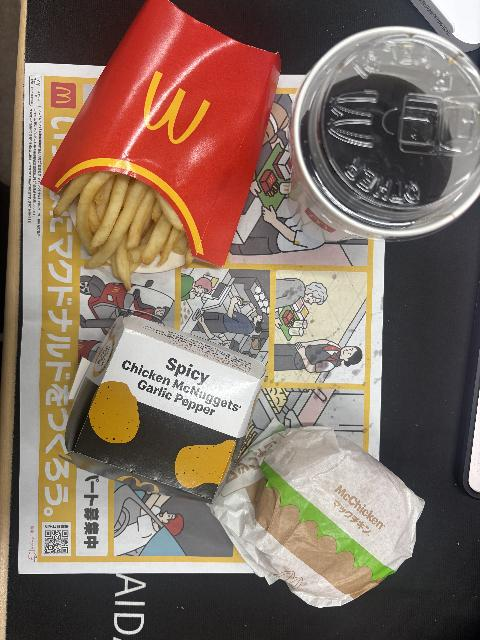burger: (210, 426, 427, 611)
drink: (289, 25, 480, 244)
fries: (40, 0, 283, 289)
nuggets: (62, 312, 265, 507)
